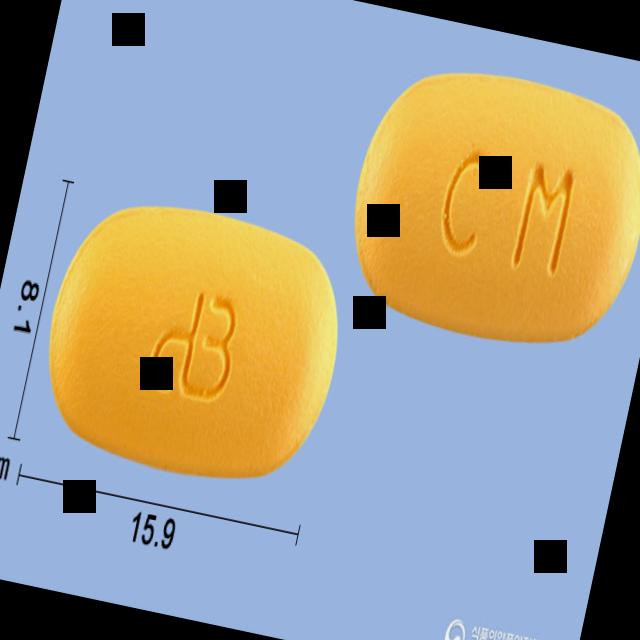Claridon: (22, 175, 364, 508), (327, 43, 640, 374)
